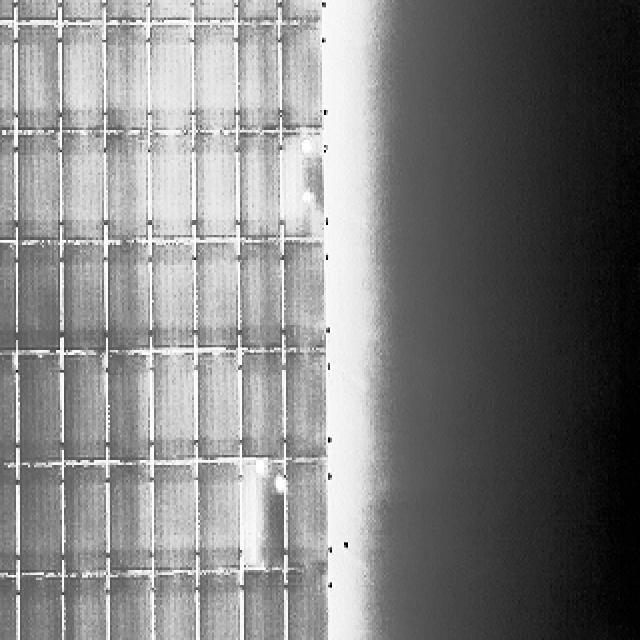Hotspots: (294, 182, 318, 208), (298, 136, 315, 157), (274, 474, 288, 496), (254, 459, 270, 475)
PV-modules: (19, 354, 67, 465), (61, 463, 108, 575), (61, 241, 107, 353), (150, 353, 196, 465), (280, 458, 326, 570), (155, 246, 201, 357), (194, 245, 240, 356), (18, 242, 65, 350), (108, 241, 154, 351), (20, 468, 66, 578), (106, 354, 152, 464), (60, 354, 106, 464), (192, 135, 238, 245), (157, 462, 202, 574), (106, 134, 152, 243), (191, 24, 237, 133), (196, 353, 242, 462), (18, 24, 64, 132), (59, 131, 104, 241), (108, 462, 153, 572), (146, 24, 192, 131), (283, 350, 327, 461), (288, 245, 332, 356), (238, 130, 283, 238), (61, 24, 106, 132), (242, 354, 287, 462), (240, 240, 284, 349), (241, 467, 286, 573), (148, 134, 192, 242), (238, 26, 282, 134), (279, 26, 323, 134), (280, 134, 324, 242), (106, 24, 150, 132), (197, 466, 240, 575), (19, 134, 62, 243), (242, 573, 290, 640), (284, 572, 329, 640), (196, 574, 242, 640), (60, 577, 108, 640), (107, 576, 154, 640), (21, 577, 68, 640), (150, 576, 196, 640), (0, 353, 18, 465), (0, 468, 18, 578), (0, 132, 18, 242), (0, 245, 12, 357), (0, 22, 12, 132), (56, 0, 102, 28), (276, 0, 322, 28), (236, 0, 282, 25), (104, 0, 150, 25), (16, 0, 60, 25), (0, 578, 18, 638), (152, 0, 196, 20), (190, 0, 234, 20), (0, 0, 12, 20)
